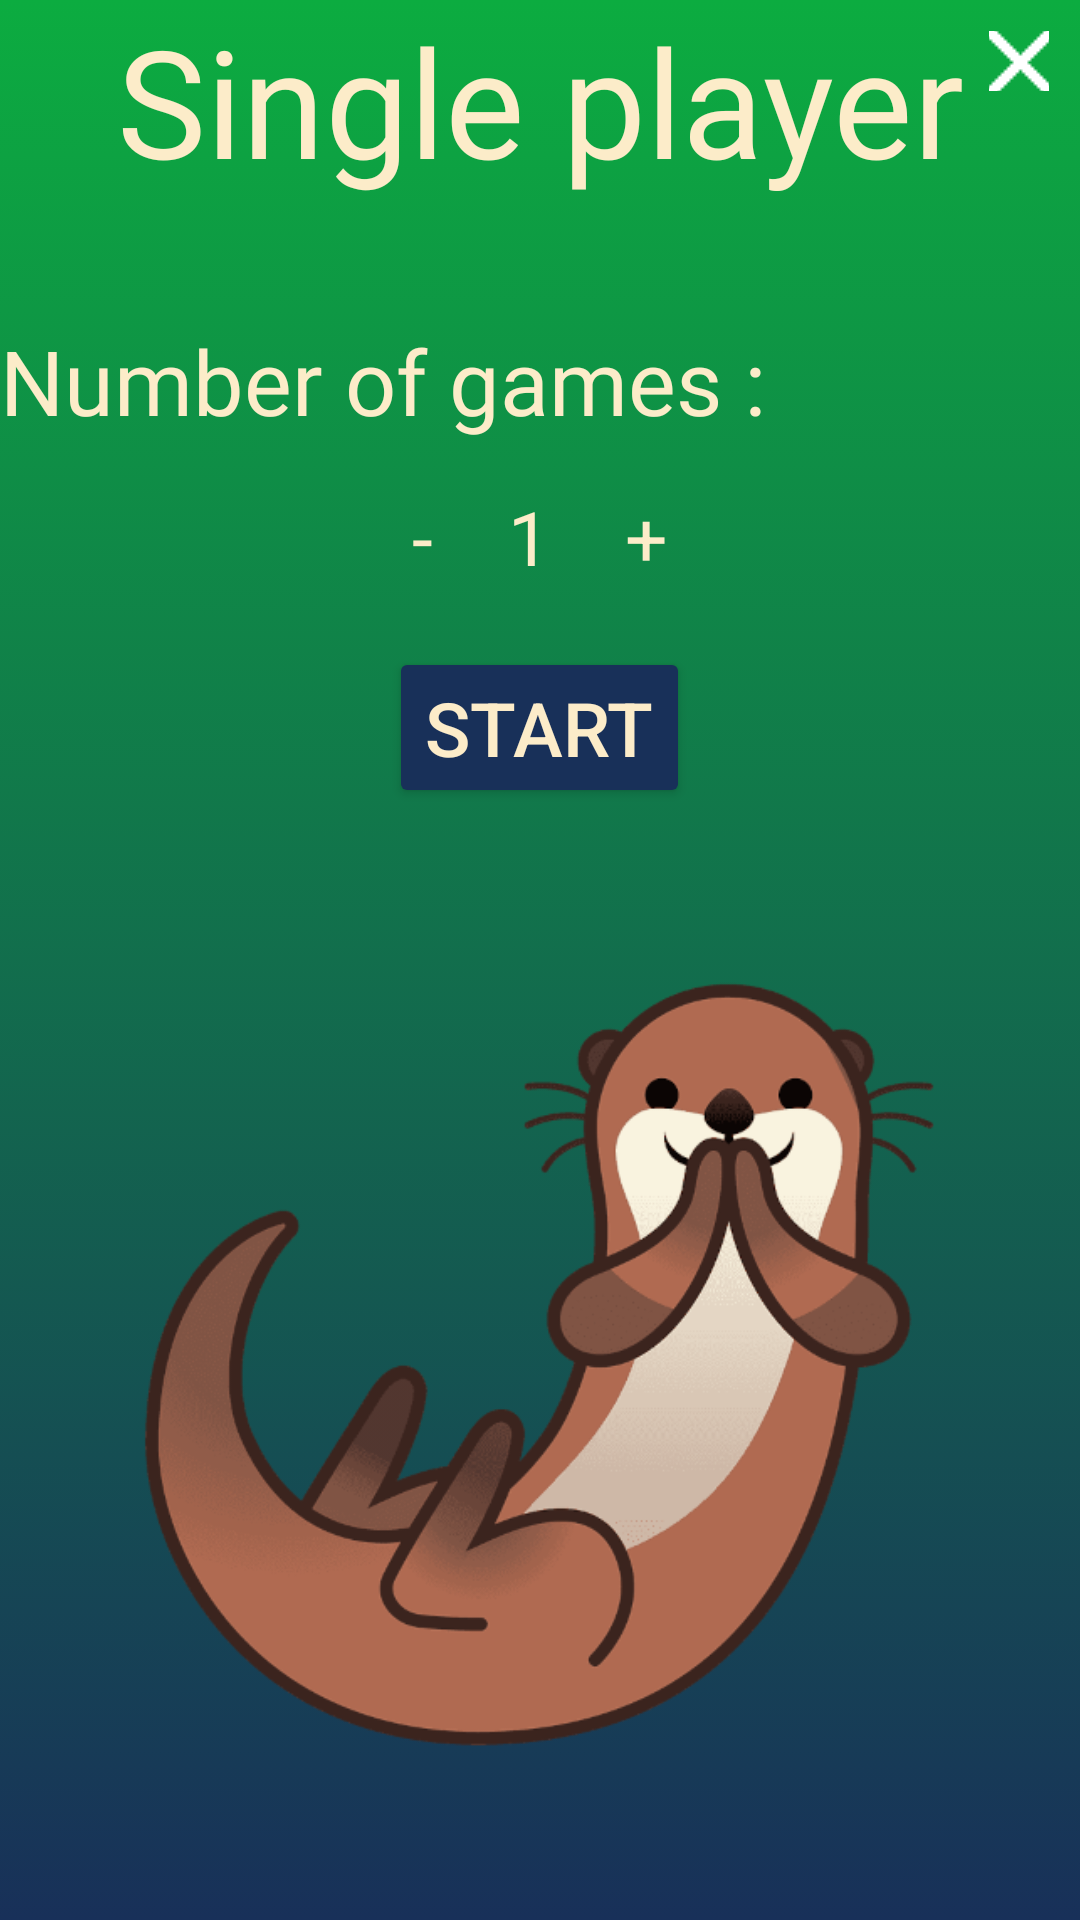

Icons on this 1080px×1920px Android screen, each with its box as {"left": x1, "top": y1, "right": x2, "bottom": y2}:
exit: {"left": 989, "top": 31, "right": 1049, "bottom": 91}
